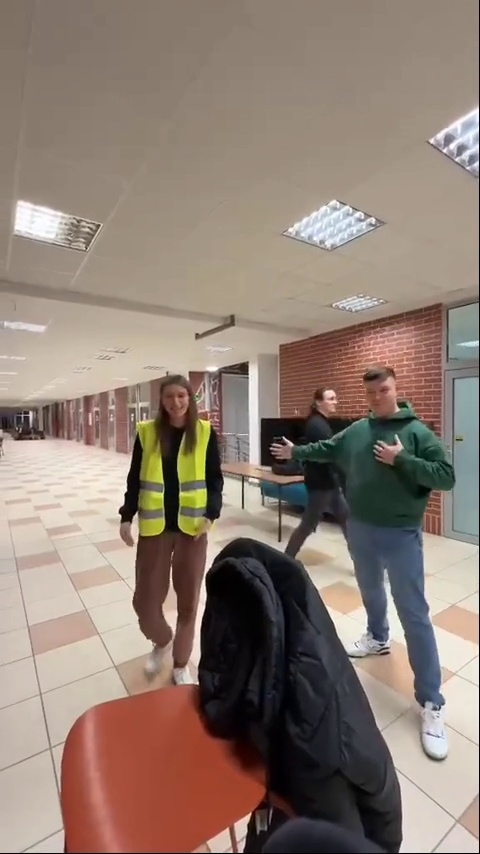no vest: (352, 361, 460, 718), (295, 380, 350, 572)
vest: (125, 376, 233, 687)
